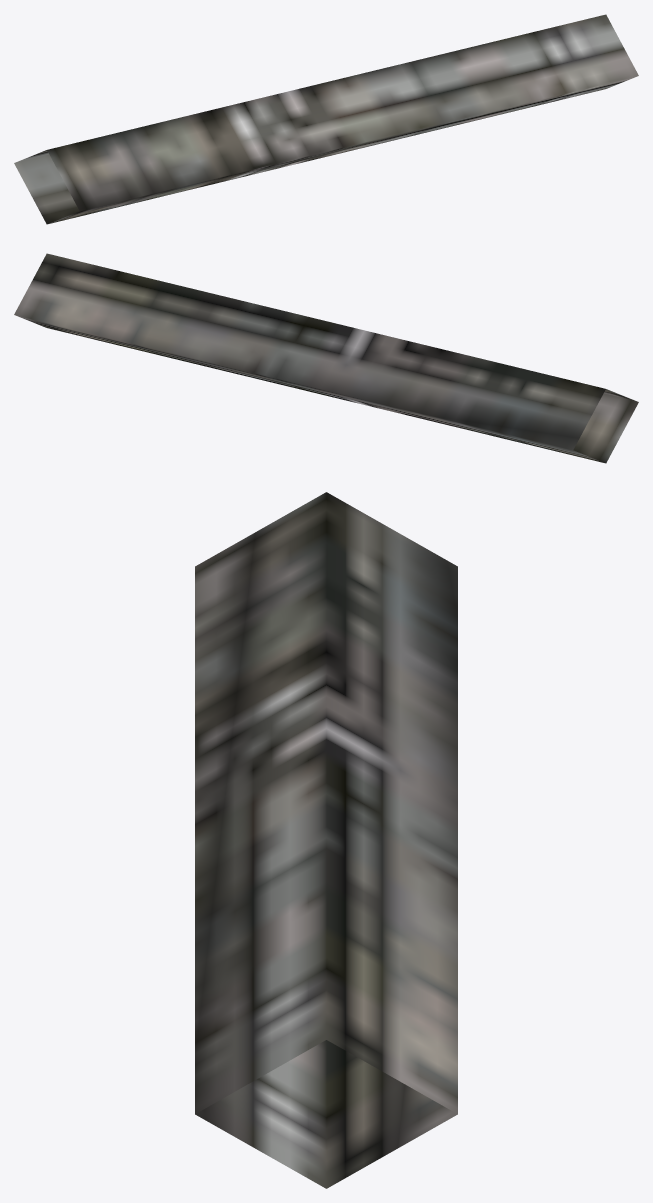
Rendered from lambda_strut_l_l2.fbx.
The picture shows the model from 3 angles, top to bottom: view 1: azimuth 30°, elevation 25°; view 2: azimuth 150°, elevation 25°; view 3: azimuth 270°, elevation 25°; orthographic projection. The views are drawn at different scales.
Visible parts, largest first — view 1: mesh_node; view 2: mesh_node; view 3: mesh_node.
Boxes of the visible parts, x1,y1,x2,y2 form: mesh_node: (14,14,638,224); mesh_node: (14,253,638,463); mesh_node: (195,492,457,1188).
Bounding box in the file's own units: 3.21 × 0.4147 × 0.6535.
